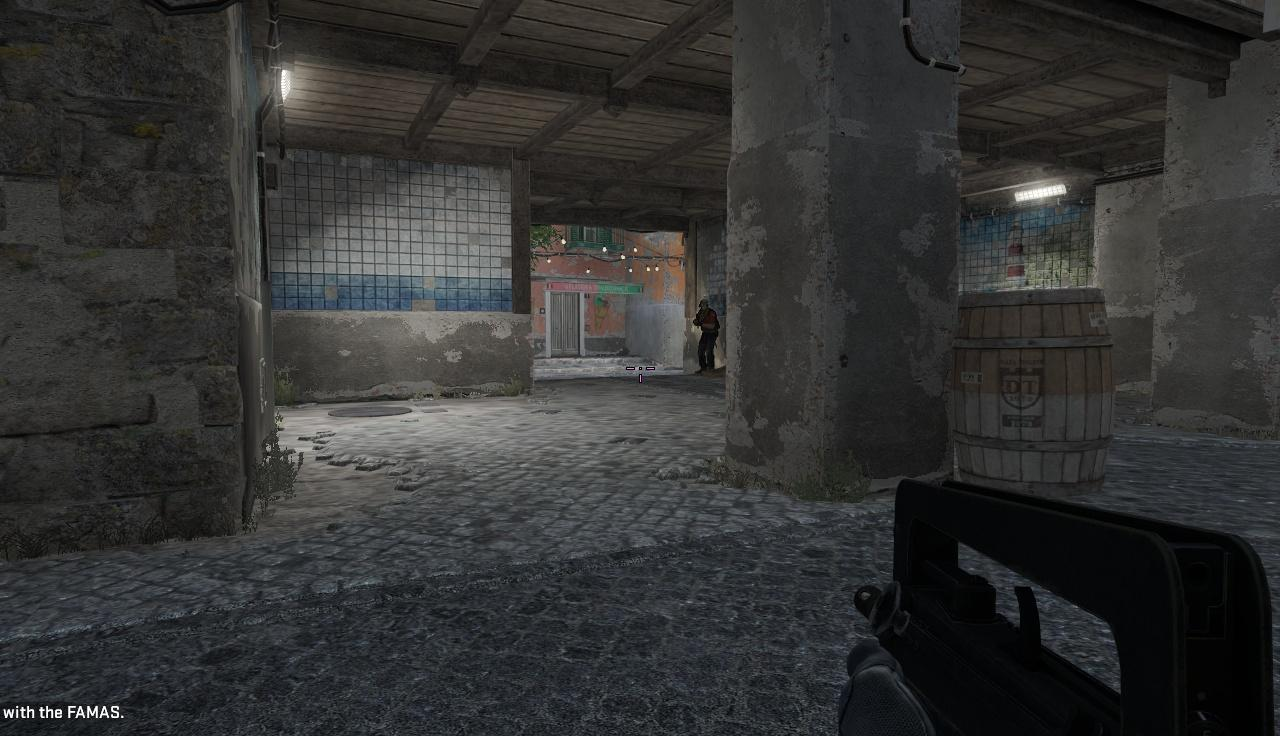rifle: (853, 482, 1280, 736)
tt: (696, 299, 720, 373)
tthead: (700, 299, 711, 315)
